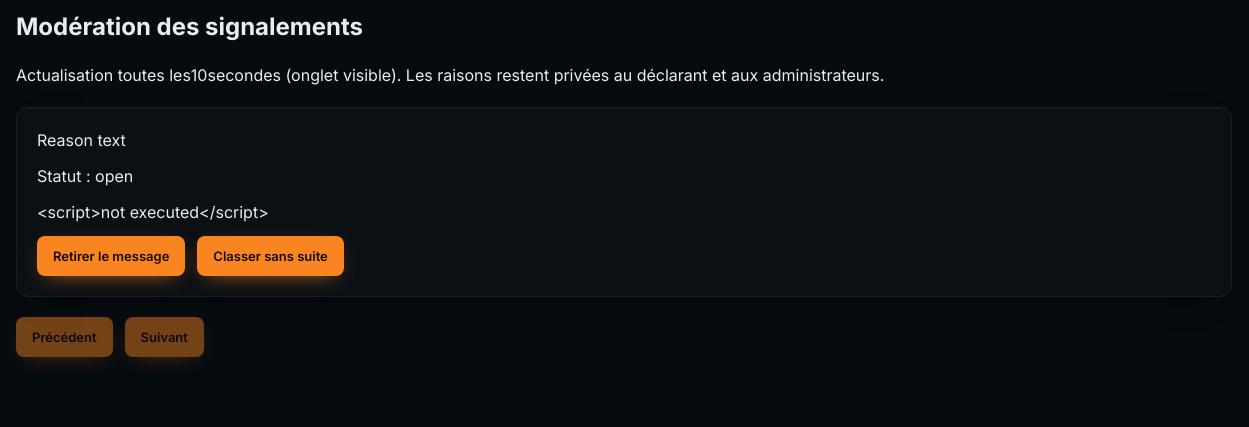
Test case: requires server confirmation for administrator decisions
The image size is (1249, 427).
Step 1. Click the button "Retirer le message" → {"x": 111, "y": 256}, box [37,236,185,276]
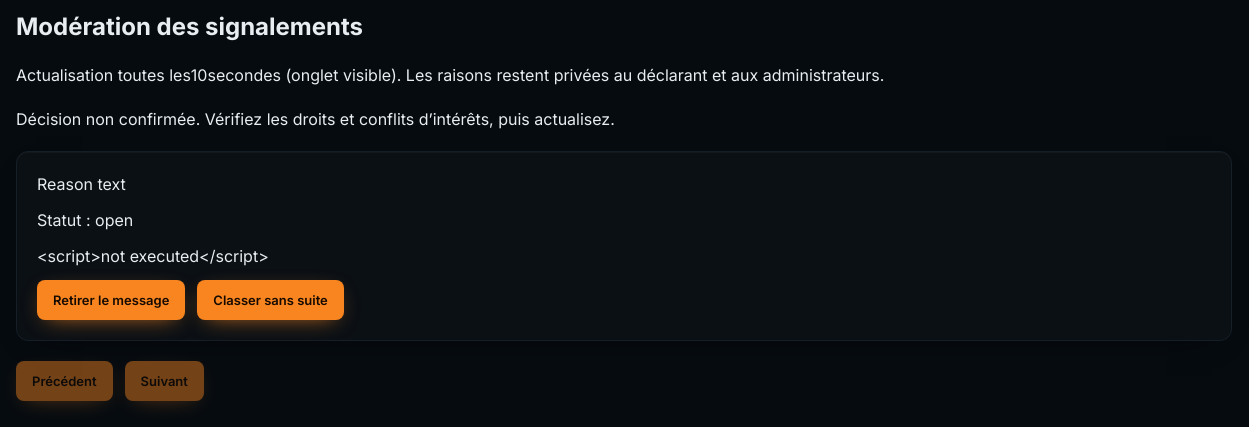
Now the message shows "Décision non confirmée", box [16,109,615,129]
